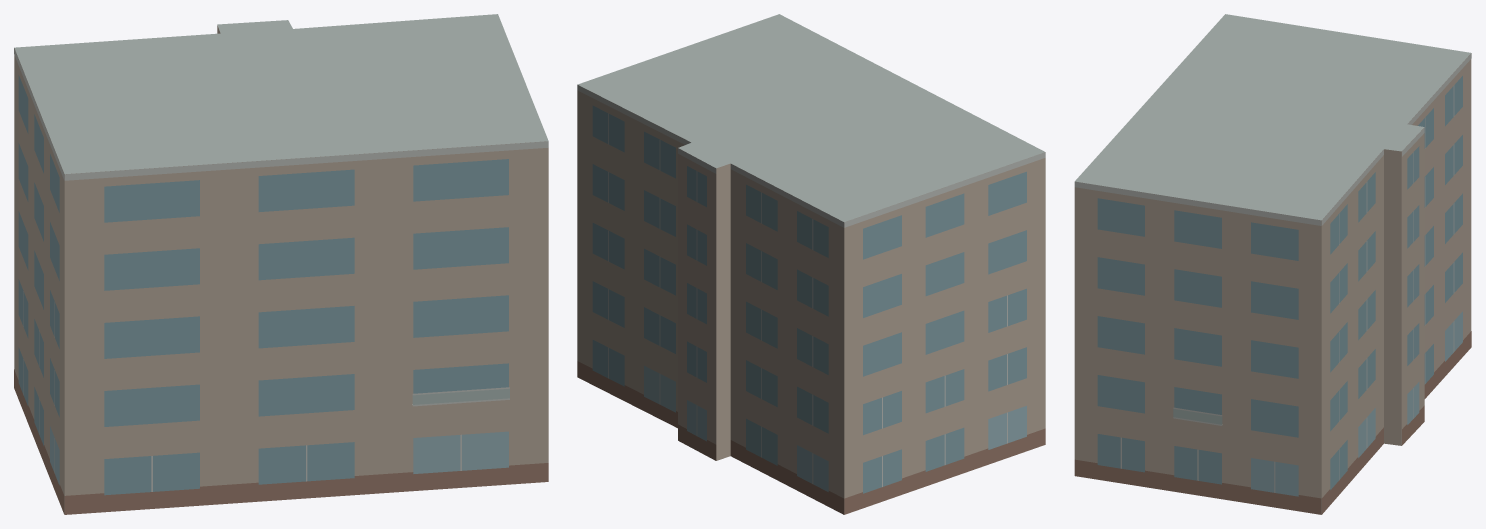
The model's file is survey-upis-33008354.glb.
The picture shows the model from 3 angles, left to right: view 1: azimuth 30°, elevation 25°; view 2: azimuth 150°, elevation 25°; view 3: azimuth 270°, elevation 25°; orthographic projection. The views are drawn at different scales.
Visible parts, largest first — view 1: survey-upis-33008354.tmp; view 2: survey-upis-33008354.tmp; view 3: survey-upis-33008354.tmp.
Boxes of the visible parts, x1,y1,x2,y2 form: survey-upis-33008354.tmp: (14, 14, 548, 514); survey-upis-33008354.tmp: (577, 14, 1045, 514); survey-upis-33008354.tmp: (1074, 14, 1471, 514).
Bounding box in the file's own units: 18.95 × 12.6 × 15.4.
